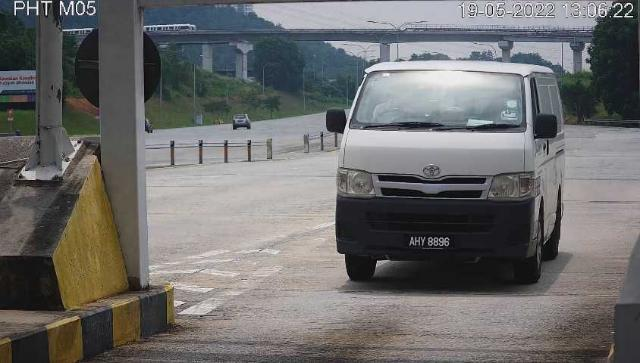License_Plate: (404, 233, 459, 254)
van: (338, 62, 567, 286)
